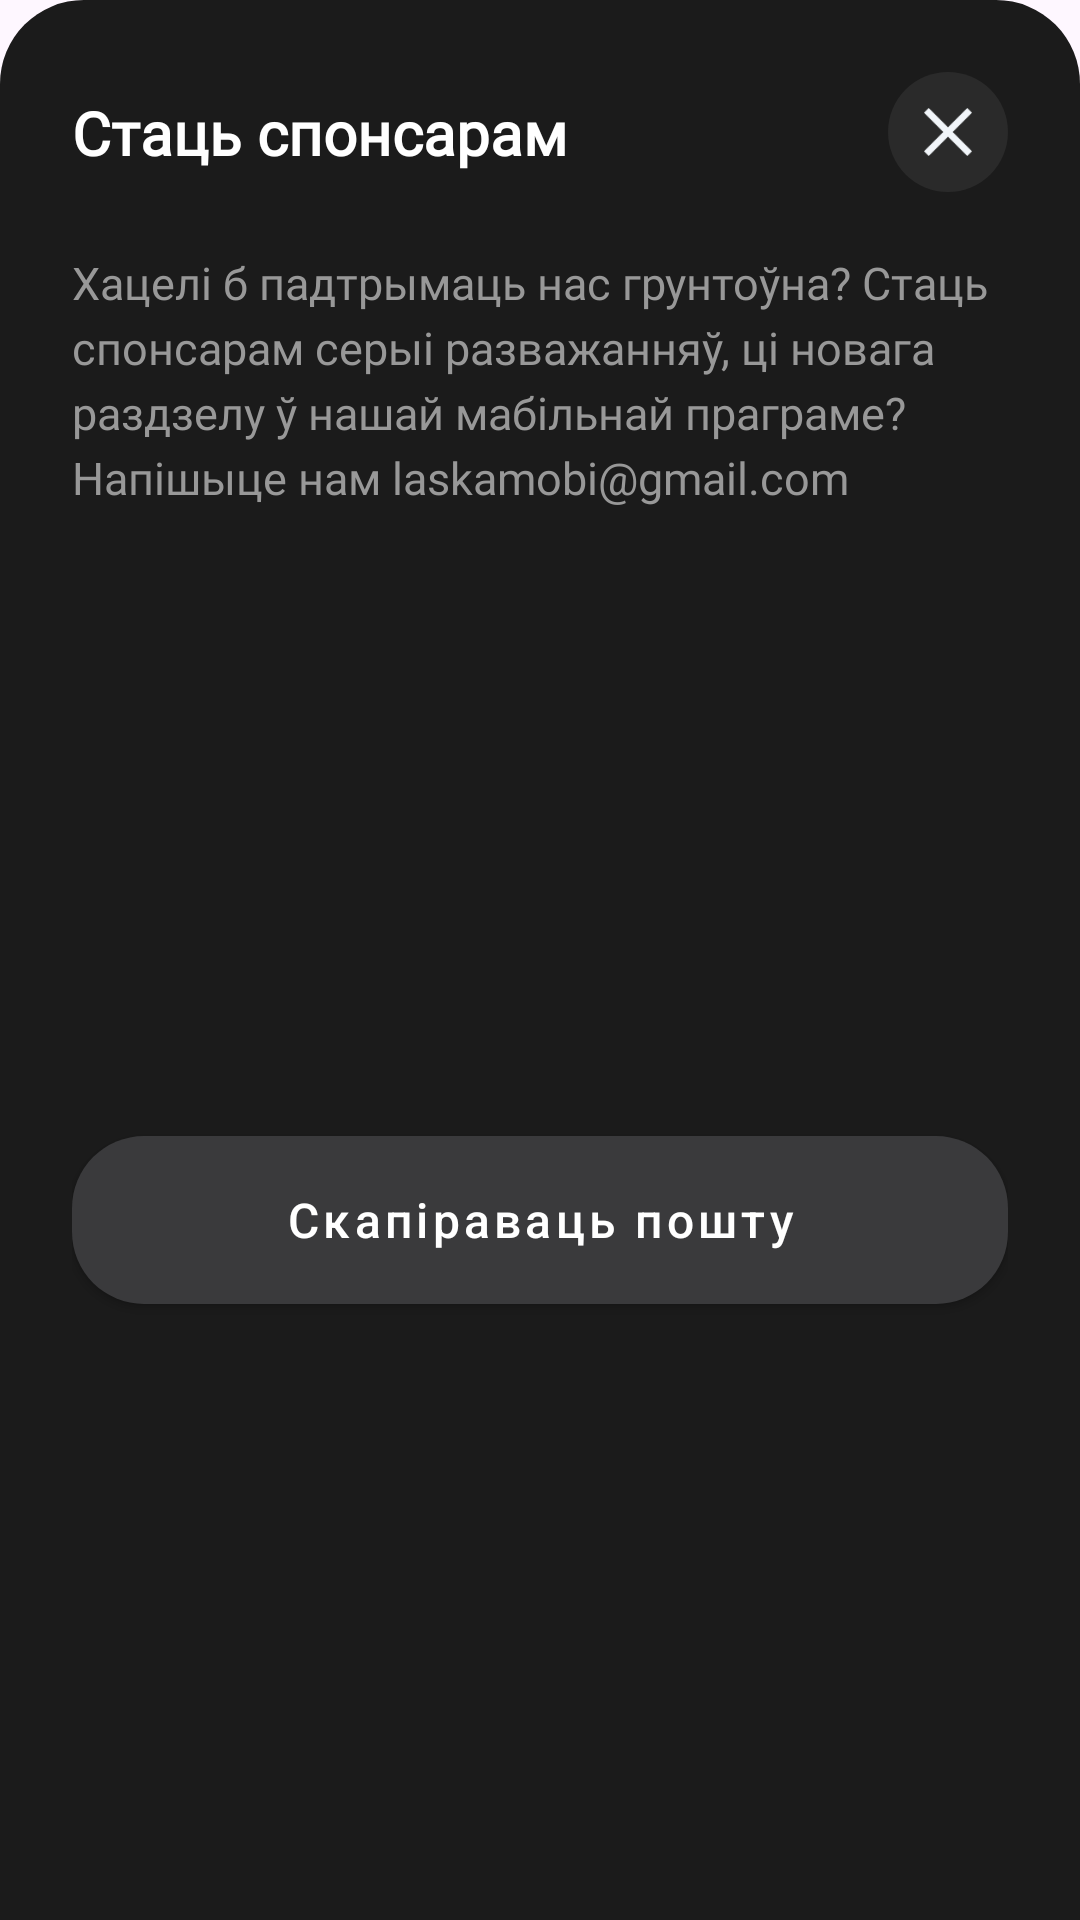

Screen size 1080×1920. Icon name, then its box in pixels as [x1=x1, y1=y1, x2=x2, y2=y2]:
close: [x1=888, y1=72, x2=1008, y2=192]
